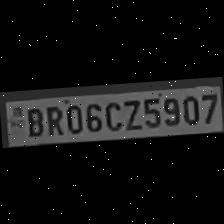0: (178, 92, 200, 125), (62, 102, 83, 134)
5: (140, 94, 160, 128)
6: (81, 100, 102, 134)
7: (198, 90, 220, 124)
9: (160, 93, 180, 127)
B: (22, 104, 44, 137)
C: (102, 97, 120, 133)
R: (42, 102, 63, 136)
Z: (120, 96, 140, 132)
